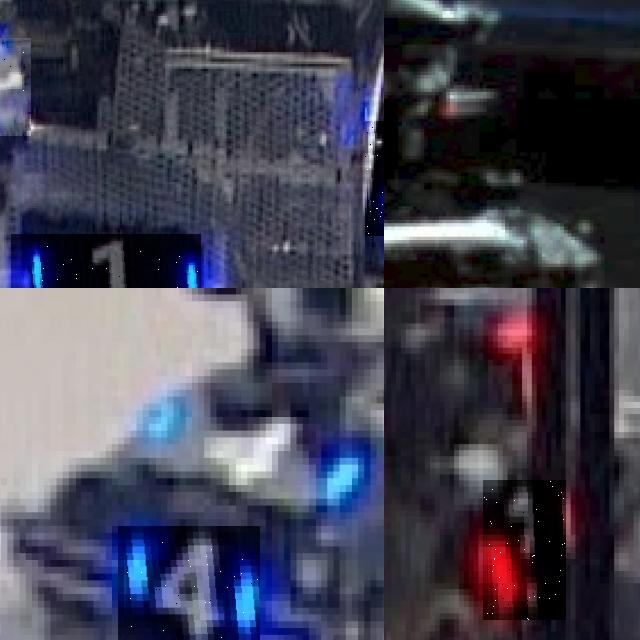B1: (10, 233, 201, 288), (0, 37, 31, 136), (364, 120, 384, 236)
B4: (118, 526, 259, 640)
R3: (483, 480, 566, 620)
